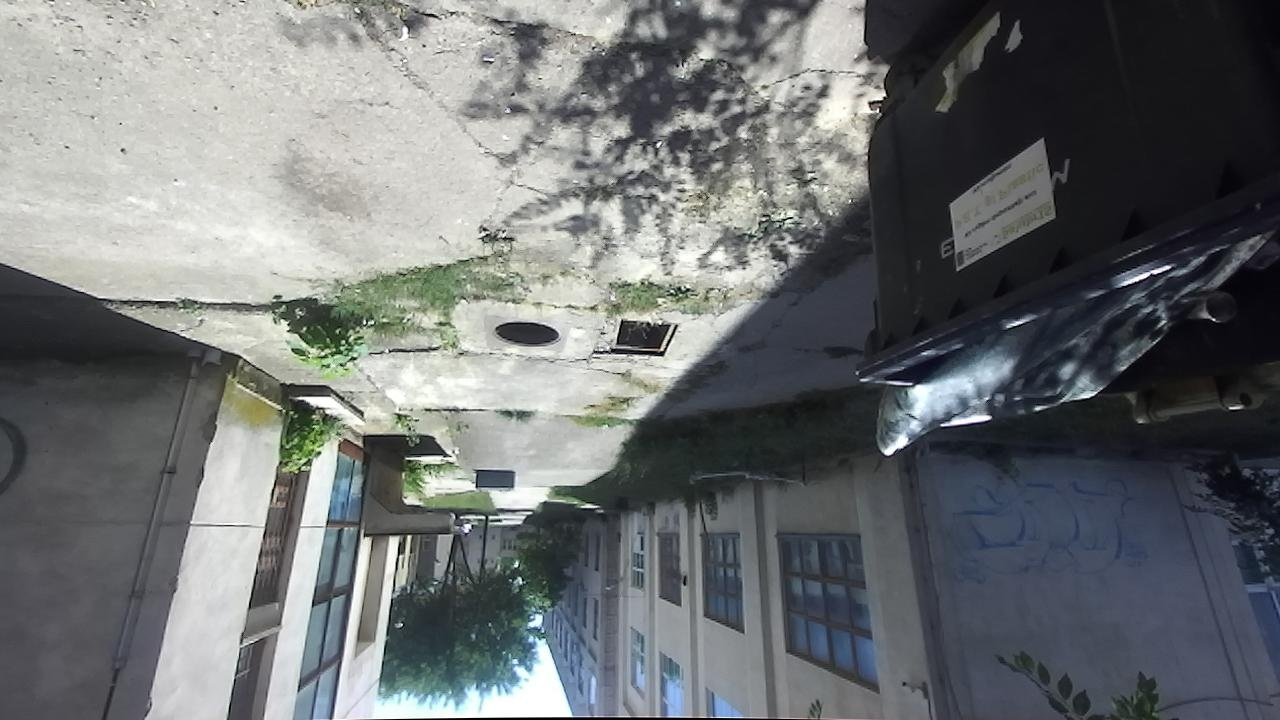drain: (601, 312, 686, 361), (489, 319, 569, 354)
